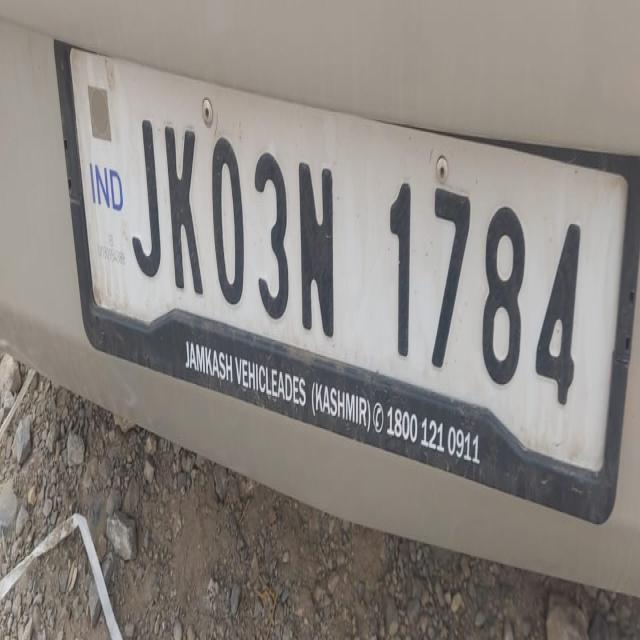plate: (46, 20, 639, 538)
